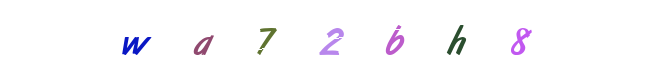2: (292, 0, 372, 80)
7: (276, 0, 356, 80)
8: (401, 0, 481, 80)
A: (186, 0, 266, 80)
B: (307, 0, 387, 80)
H: (343, 0, 423, 80)
W: (94, 0, 174, 80)
